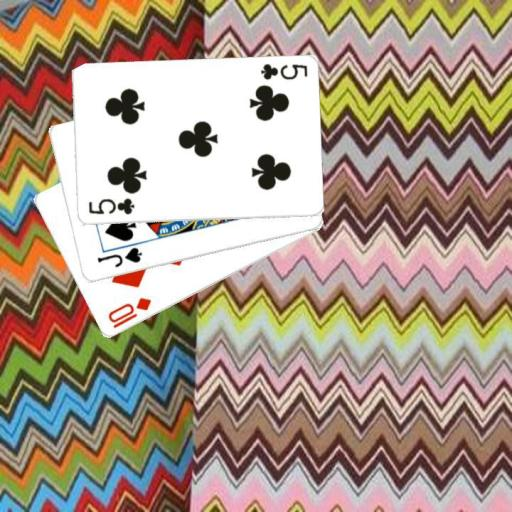10D: (104, 294, 153, 330)
5C: (257, 60, 308, 82), (85, 196, 135, 216)
JS: (94, 245, 144, 270)
